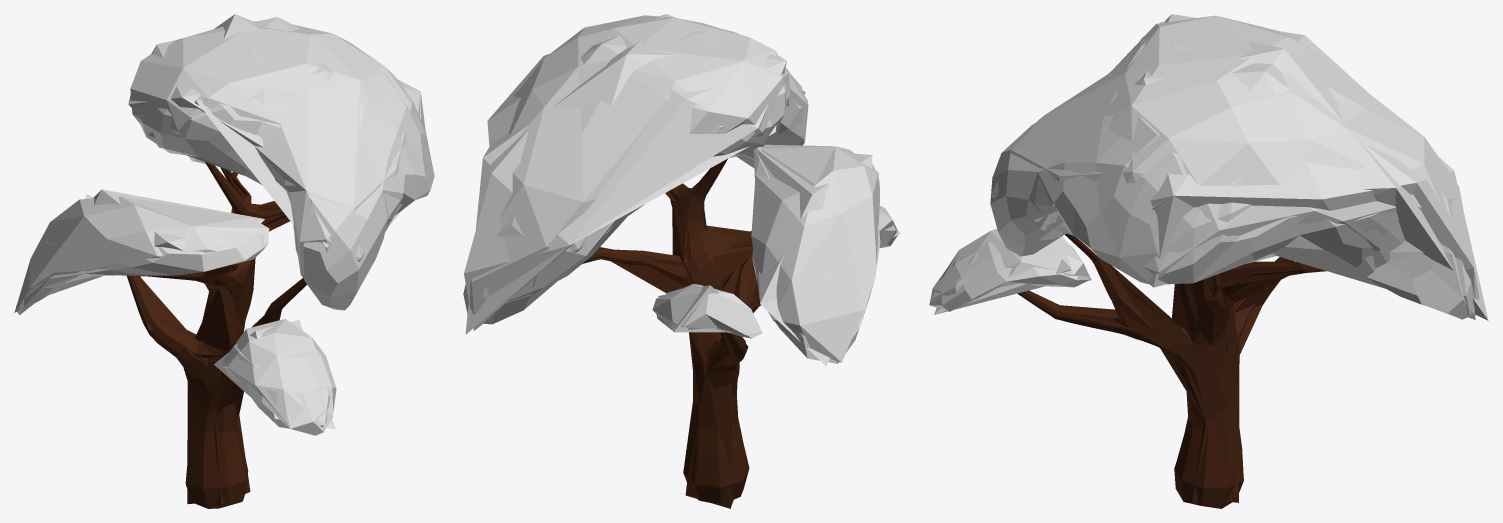
File: Baum. sososos.fbx
The picture shows the model from 3 angles, left to right: view 1: azimuth 30°, elevation 25°; view 2: azimuth 150°, elevation 25°; view 3: azimuth 270°, elevation 25°; orthographic projection. The views are drawn at different scales.
Visible parts, largest first — view 1: Blatter 2, Blatter 1, Stumpf 1, Stumpf 2, Blatter 3, Stumpf 4, Blatter 4, Stumpf 3; view 2: Blatter 2, Blatter 3, Stumpf 1, Blatter 4, Blatter 1, Stumpf 4, Stumpf 2, Stumpf 3; view 3: Blatter 2, Blatter 1, Blatter 3, Stumpf 2, Stumpf 3, Blatter 4, Stumpf 4, Stumpf 1.
Part boxes in pixels (bbox=[...]): Blatter 2: bbox=[14, 21, 414, 426]; Blatter 1: bbox=[17, 49, 434, 435]; Stumpf 1: bbox=[127, 162, 306, 508]; Stumpf 2: bbox=[134, 164, 288, 505]; Blatter 3: bbox=[16, 17, 425, 429]; Stumpf 4: bbox=[141, 177, 289, 504]; Blatter 4: bbox=[64, 14, 420, 282]; Stumpf 3: bbox=[139, 168, 286, 504]; Blatter 2: bbox=[463, 15, 898, 362]; Blatter 3: bbox=[464, 14, 900, 366]; Stumpf 1: bbox=[582, 158, 760, 503]; Blatter 4: bbox=[465, 14, 788, 334]; Blatter 1: bbox=[483, 29, 897, 363]; Stumpf 4: bbox=[586, 185, 759, 508]; Stumpf 2: bbox=[595, 163, 754, 499]; Stumpf 3: bbox=[590, 164, 758, 507]; Blatter 2: bbox=[930, 15, 1479, 315]; Blatter 1: bbox=[929, 32, 1474, 319]; Blatter 3: bbox=[934, 14, 1475, 319]; Stumpf 2: bbox=[1018, 233, 1318, 508]; Stumpf 3: bbox=[1028, 258, 1321, 503]; Blatter 4: bbox=[1045, 22, 1488, 320]; Stumpf 4: bbox=[1105, 259, 1326, 502]; Stumpf 1: bbox=[1017, 234, 1284, 501].
Size of the model in its own units: 647 by 783 by 818.
